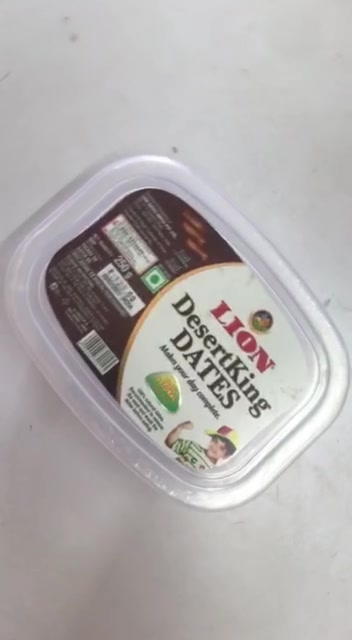Lion dates: (2, 155, 352, 510)
